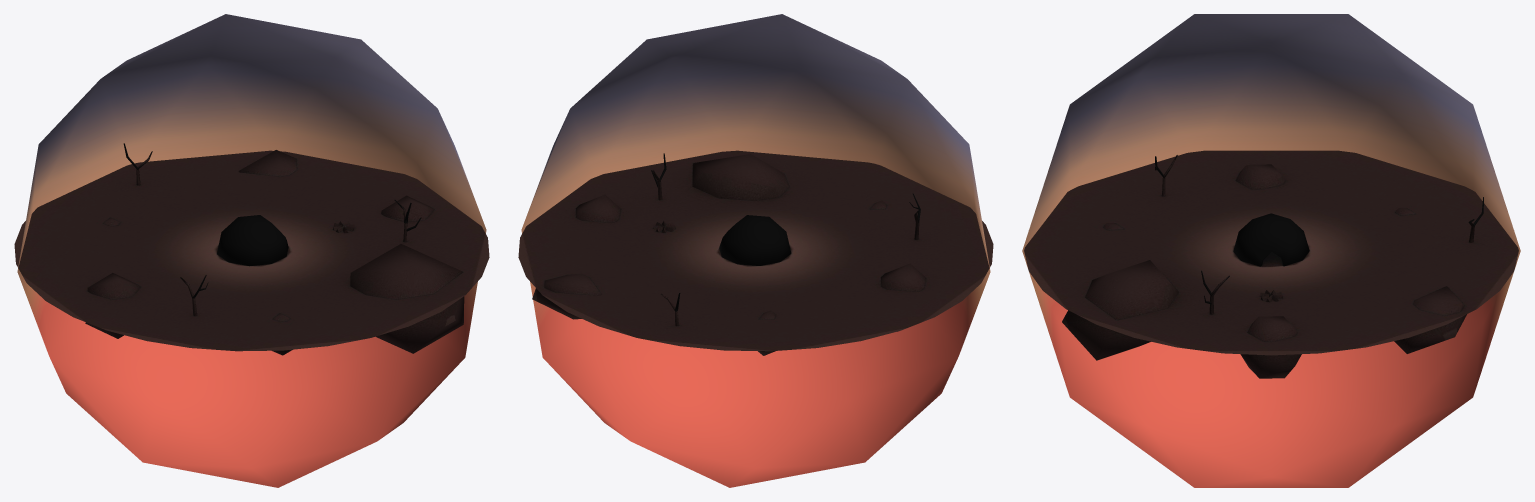
File: sweat.glb
3 renders of one model, left to right at view 1: azimuth 30°, elevation 25°; view 2: azimuth 150°, elevation 25°; view 3: azimuth 270°, elevation 25°, orthographic. The views are drawn at different scales.
Visible parts, largest first — view 1: envirosphere.001, ground, lodge.001; view 2: envirosphere.001, ground, lodge.001; view 3: envirosphere.001, ground, lodge.001.
Boxes of the visible parts, x1,y1,x2,y2 form: envirosphere.001: [17, 14, 486, 487]; ground: [14, 143, 489, 355]; lodge.001: [217, 215, 288, 266]; envirosphere.001: [521, 14, 990, 487]; ground: [518, 150, 993, 355]; lodge.001: [719, 215, 791, 265]; envirosphere.001: [1022, 14, 1520, 487]; ground: [1024, 150, 1518, 378]; lodge.001: [1233, 213, 1309, 266].
Size of the model in its own units: 13.58 by 13.69 by 13.69.
3 materials, 3 textured.
